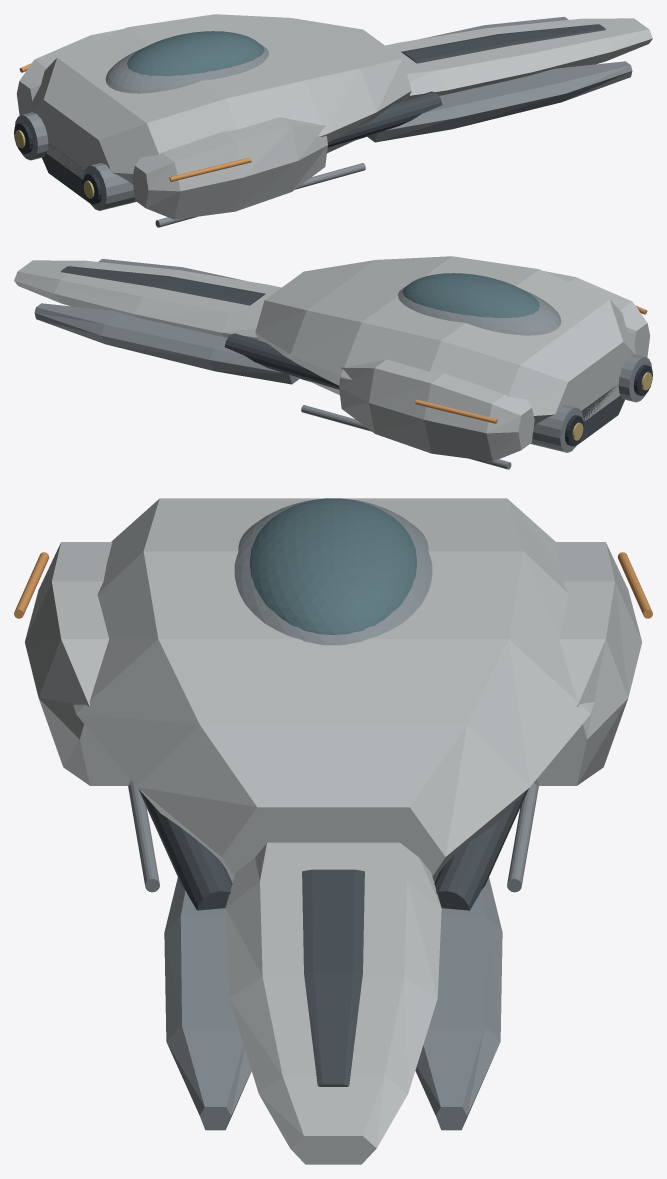
The model's file is scud_silver_off.glb.
3 renders of one model, top to bottom at view 1: azimuth 30°, elevation 25°; view 2: azimuth 150°, elevation 25°; view 3: azimuth 270°, elevation 25°, orthographic. The views are drawn at different scales.
Parts seen in each view (by area): view 1: rear_core_0, rear_side_body_5, forward_body_2, forward_side_fin_7, canopy_glass_4, front_inset_14, canopy_rim_3, rear_engine_housing_9, connecting_arm_8, lower_keel_1, underside_ski_12, rear_engine_face_10 (+2 smaller); view 2: rear_core_0, rear_side_body_5, forward_body_2, forward_side_fin_7, canopy_glass_4, front_inset_14, canopy_rim_3, rear_engine_housing_9, connecting_arm_8, lower_keel_1, underside_ski_12, rear_engine_face_10 (+2 smaller); view 3: rear_core_0, forward_body_2, rear_side_body_5, forward_side_fin_7, canopy_glass_4, front_inset_14, connecting_arm_8, canopy_rim_3, underside_ski_12, side_light_6.
Part boxes in pixels (x1=…): rear_core_0: x1=31, y1=14, x2=411, y2=184; rear_side_body_5: x1=16, y1=29, x2=327, y2=219; forward_body_2: x1=385, y1=18, x2=652, y2=97; forward_side_fin_7: x1=366, y1=16, x2=632, y2=142; canopy_glass_4: x1=127, y1=31, x2=264, y2=76; front_inset_14: x1=401, y1=24, x2=605, y2=63; canopy_rim_3: x1=105, y1=44, x2=268, y2=93; rear_engine_housing_9: x1=14, y1=112, x2=136, y2=210; connecting_arm_8: x1=327, y1=91, x2=442, y2=147; lower_keel_1: x1=42, y1=136, x2=366, y2=202; underside_ski_12: x1=155, y1=163, x2=365, y2=227; rear_engine_face_10: x1=14, y1=122, x2=101, y2=204; rear_core_0: x1=255, y1=256, x2=635, y2=425; rear_side_body_5: x1=339, y1=271, x2=650, y2=461; forward_body_2: x1=14, y1=260, x2=281, y2=339; forward_side_fin_7: x1=34, y1=258, x2=300, y2=384; canopy_glass_4: x1=402, y1=273, x2=539, y2=318; front_inset_14: x1=61, y1=266, x2=265, y2=305; canopy_rim_3: x1=398, y1=286, x2=561, y2=335; rear_engine_housing_9: x1=530, y1=354, x2=652, y2=452; connecting_arm_8: x1=224, y1=333, x2=339, y2=389; lower_keel_1: x1=300, y1=378, x2=624, y2=444; underside_ski_12: x1=301, y1=405, x2=511, y2=469; rear_engine_face_10: x1=565, y1=364, x2=652, y2=446; rear_core_0: x1=73, y1=498, x2=594, y2=881; forward_body_2: x1=225, y1=842, x2=441, y2=1164; rear_side_body_5: x1=25, y1=542, x2=641, y2=785; forward_side_fin_7: x1=164, y1=876, x2=502, y2=1130; canopy_glass_4: x1=250, y1=498, x2=416, y2=634; front_inset_14: x1=302, y1=869, x2=364, y2=1086; connecting_arm_8: x1=138, y1=789, x2=528, y2=910; canopy_rim_3: x1=234, y1=499, x2=432, y2=645; underside_ski_12: x1=128, y1=783, x2=538, y2=892; side_light_6: x1=14, y1=552, x2=652, y2=618.
Bounding box in the file's own units: 6.7 × 1.37 × 3.25.
